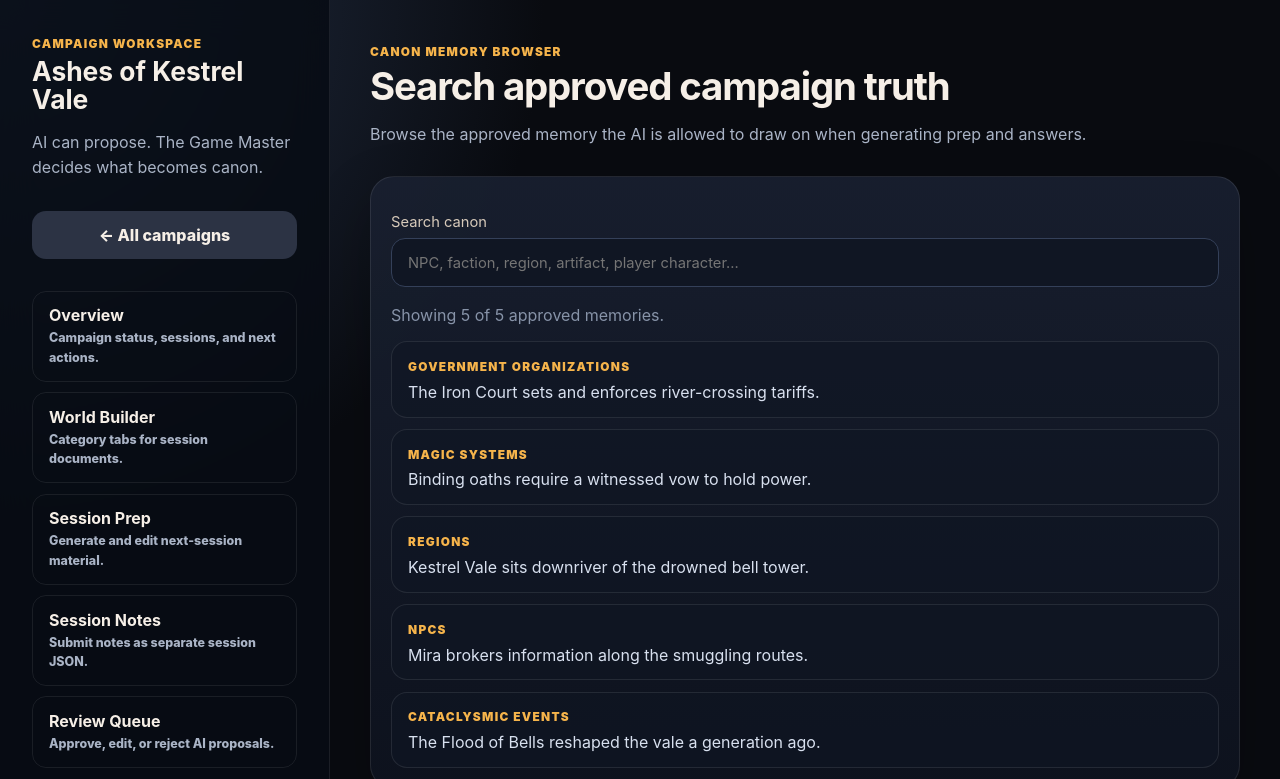
Test: workspace flows (via the /v1 mock API) › filters canon in the browser by search text
The image size is (1280, 779).
Expected: the text "The Iron Court sets and enforces river-crossing tariffs." is shown, [408, 382, 820, 402]
Type "oath" into the field with placeholder "NPC, faction, region, artifact, player character..." at (805, 262), box [391, 238, 1219, 287]
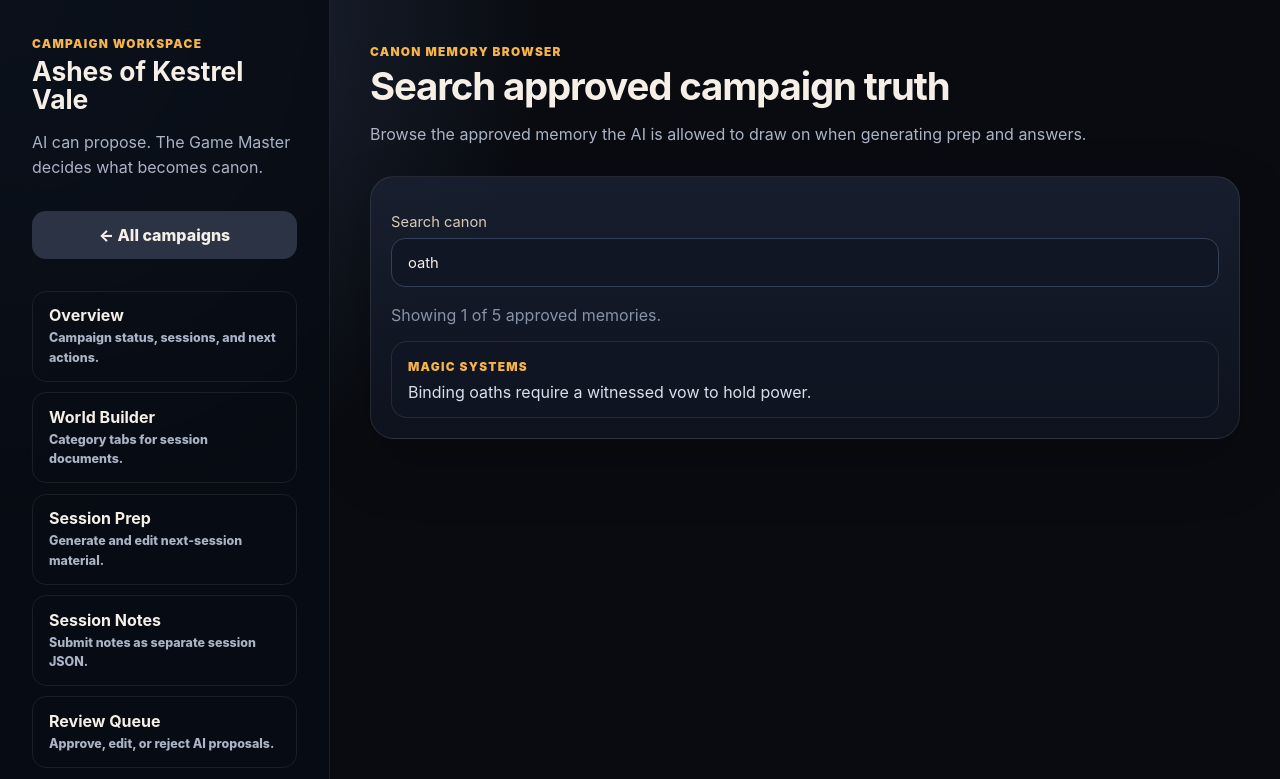
Expected: the text "Binding oaths require a witnessed vow to hold power." is shown, [408, 382, 811, 402]
Expected: the text "Iron Court sets and enforces" is gone
